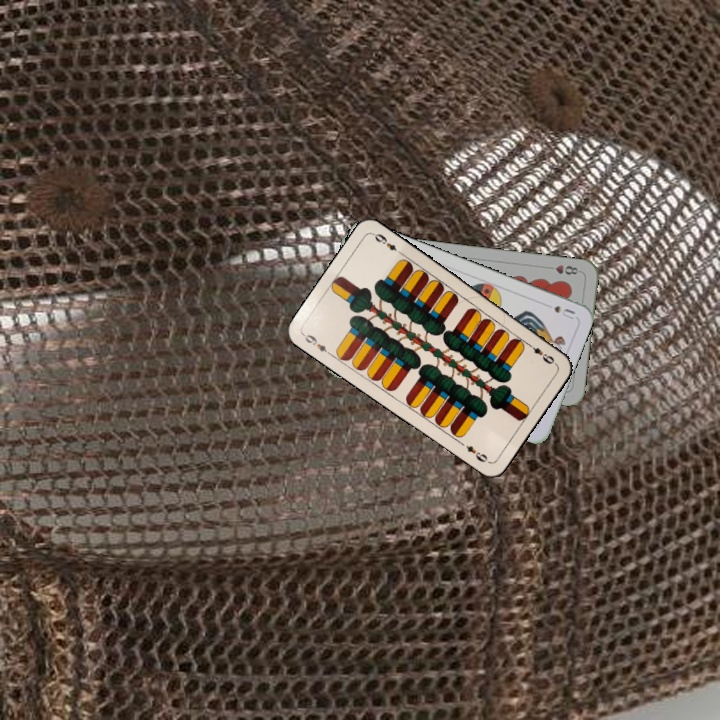E9: (299, 330, 335, 359), (523, 339, 558, 367)
H8: (552, 261, 581, 277)
SU: (550, 301, 577, 322)
